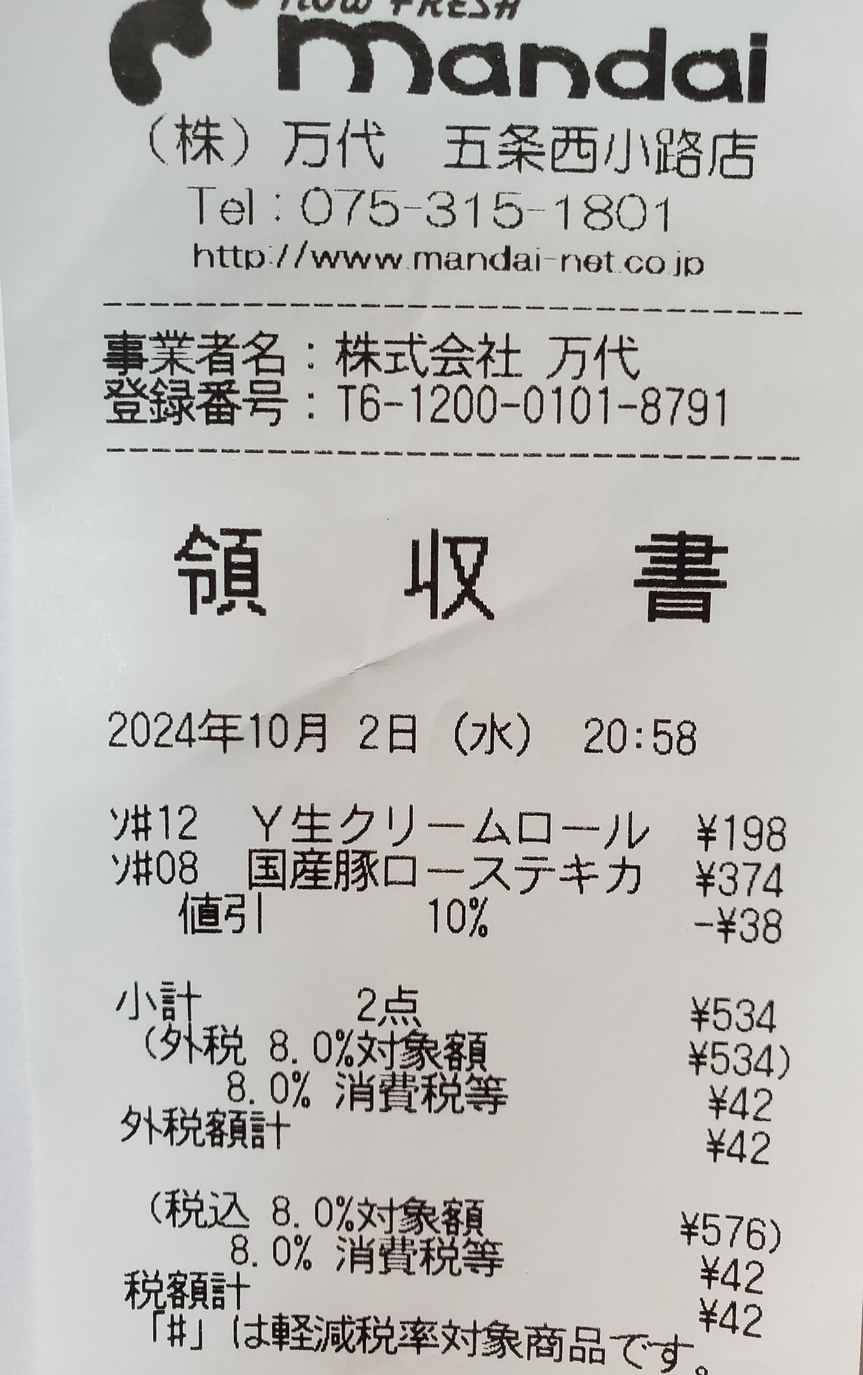Date: (96, 698, 426, 767)
Shopname: (259, 7, 809, 120)
Telnum: (293, 178, 686, 241)
